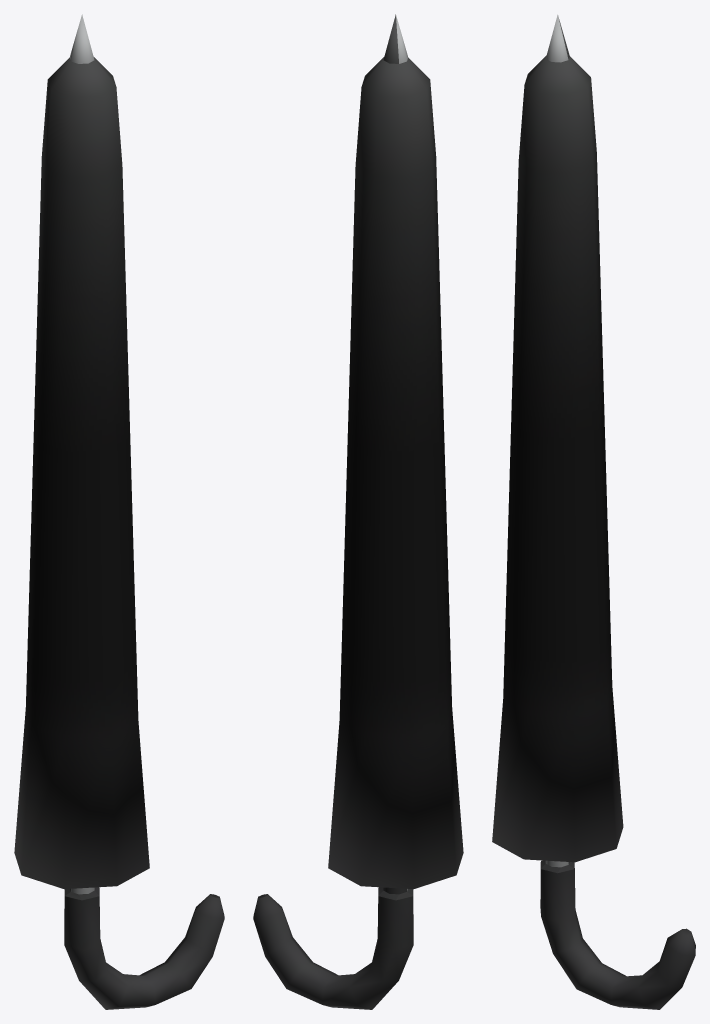
Rendered from Umbrella_Closed.fbx.
3 views of the same model, side by side, from view 1: azimuth 30°, elevation 25°; view 2: azimuth 150°, elevation 25°; view 3: azimuth 330°, elevation 25° (orthographic). The views are drawn at different scales.
Visible parts, largest first — view 1: Umbrella_Closed; view 2: Umbrella_Closed; view 3: Umbrella_Closed.
Boxes of the visible parts, box(x1,y1,x2,y2) form: Umbrella_Closed: box(14, 14, 224, 1009); Umbrella_Closed: box(253, 14, 463, 1009); Umbrella_Closed: box(492, 14, 695, 1009).
Size of the model in its own units: 17.02 by 80.83 by 10.18.
